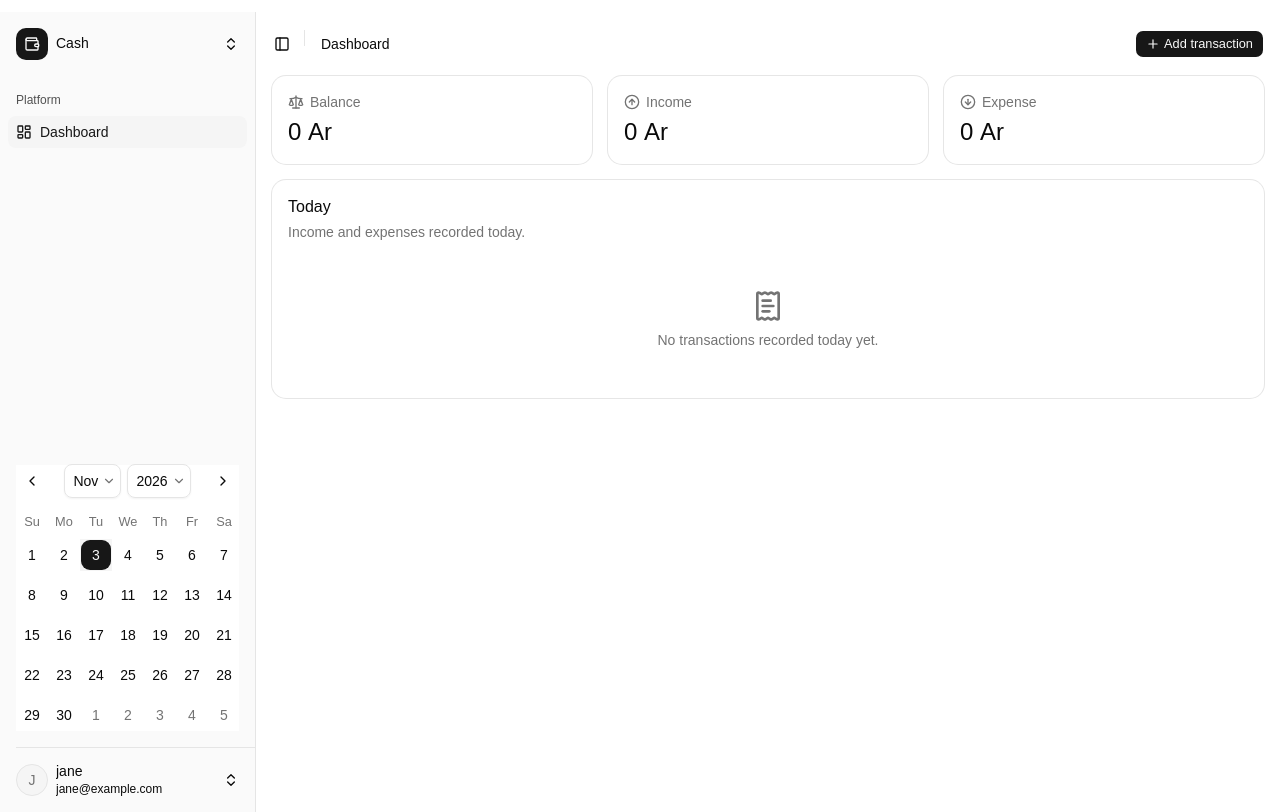
Test: AccountSwitcher › opens the chosen account
What coordinates should you click on to do the following:
click the button "Cash"
I would click on:
 (128, 44)
Its box is [8, 20, 247, 68].
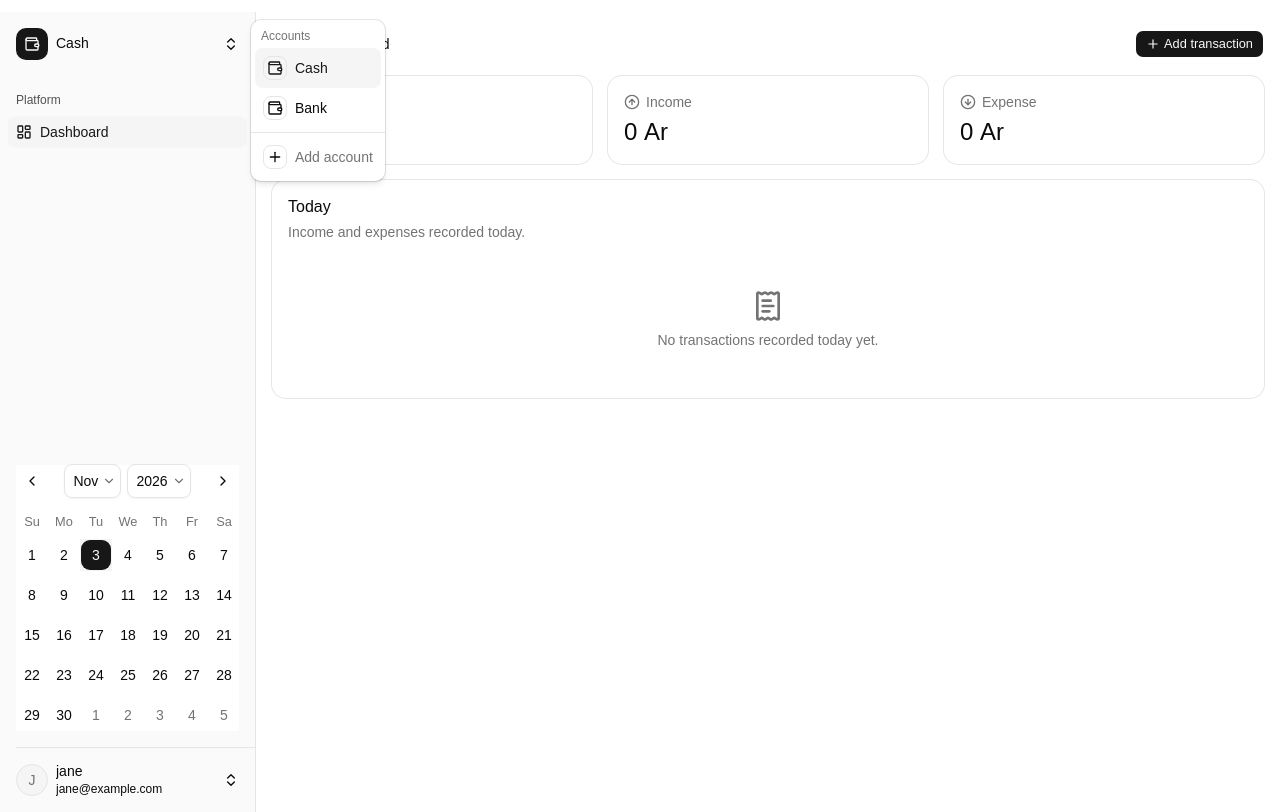
What coordinates should you click on to do the following:
click the menu item "Bank"
I would click on:
 (295, 108)
Its box is [263, 96, 327, 120].
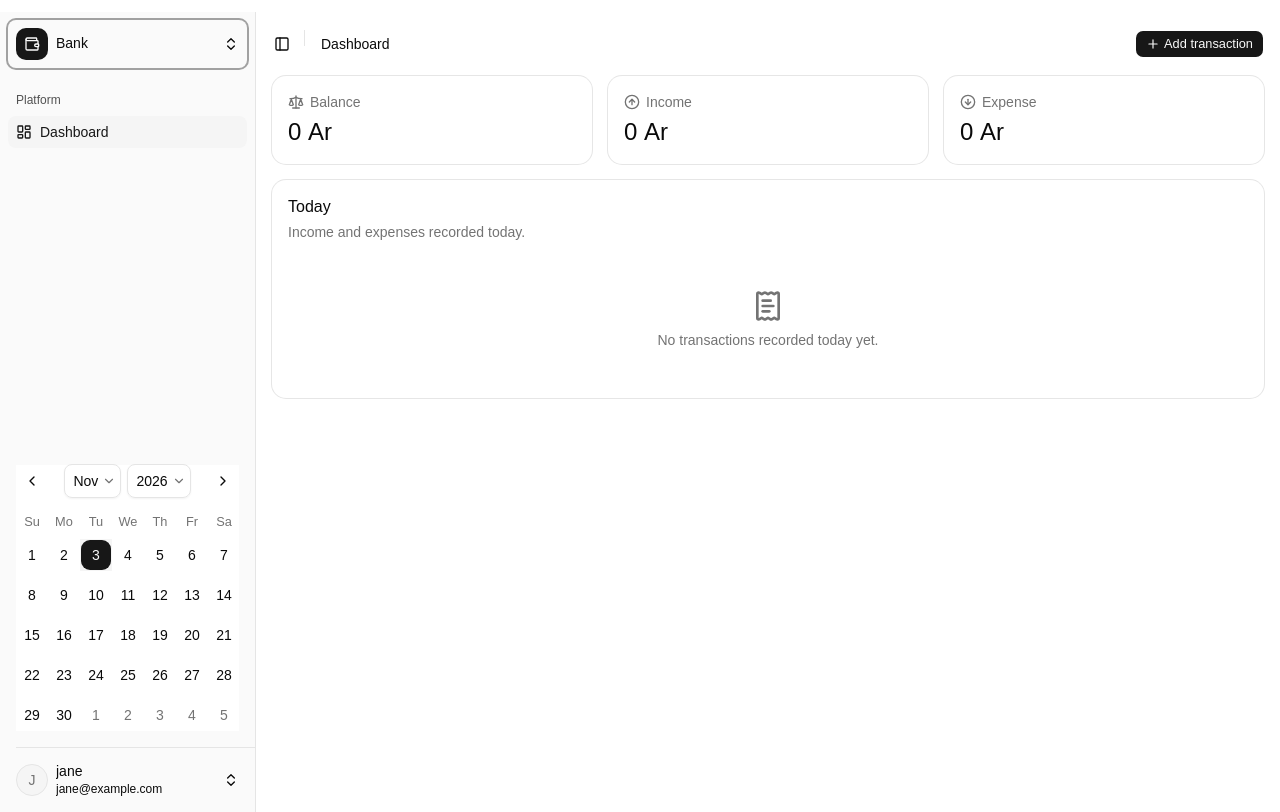
Result: the button "Bank" is shown at [8, 20, 247, 68]
